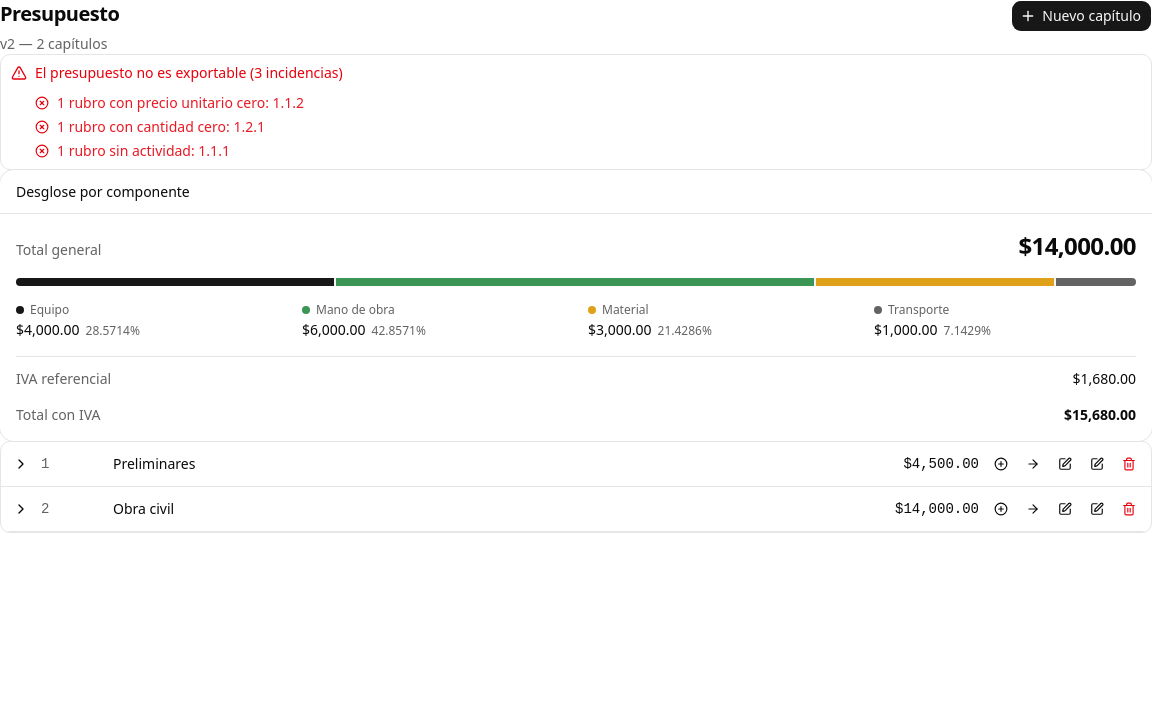
PresupuestoPage › agrega un rubro desde el diálogo de búsqueda de APU
expect the text "v2 — 2 capítulos" is shown: met, box 0,34 -> 119,54
Click the button titled "Agregar rubro" next to "$4,500.00" at (1033, 464), box 1019,450 -> 1047,478
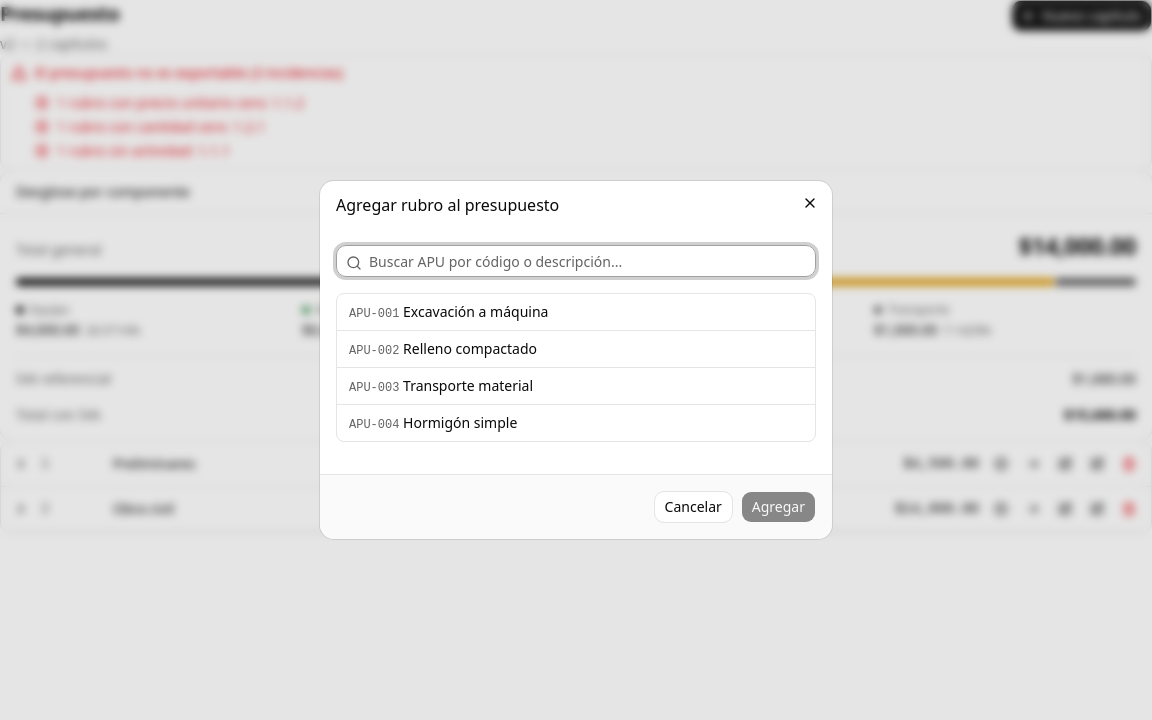
expect the field with placeholder "Buscar APU por código o descripción..." is shown: met, box 336,245 -> 816,277
expect the text "APU-001" is shown: met
Click the text "APU-001" at (374, 314), box 349,307 -> 399,321
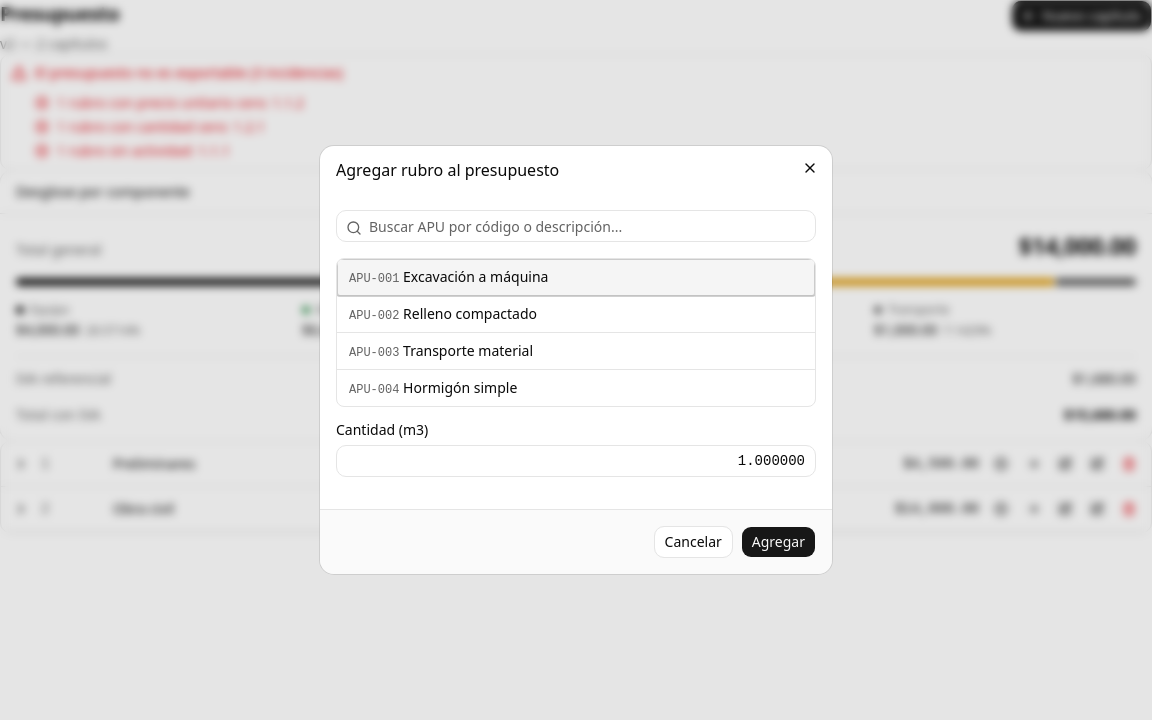
expect the field labelled "Cantidad (m3)" is shown: met, box 336,445 -> 816,477
Click the button "Agregar" at (778, 542), box 741,526 -> 816,558
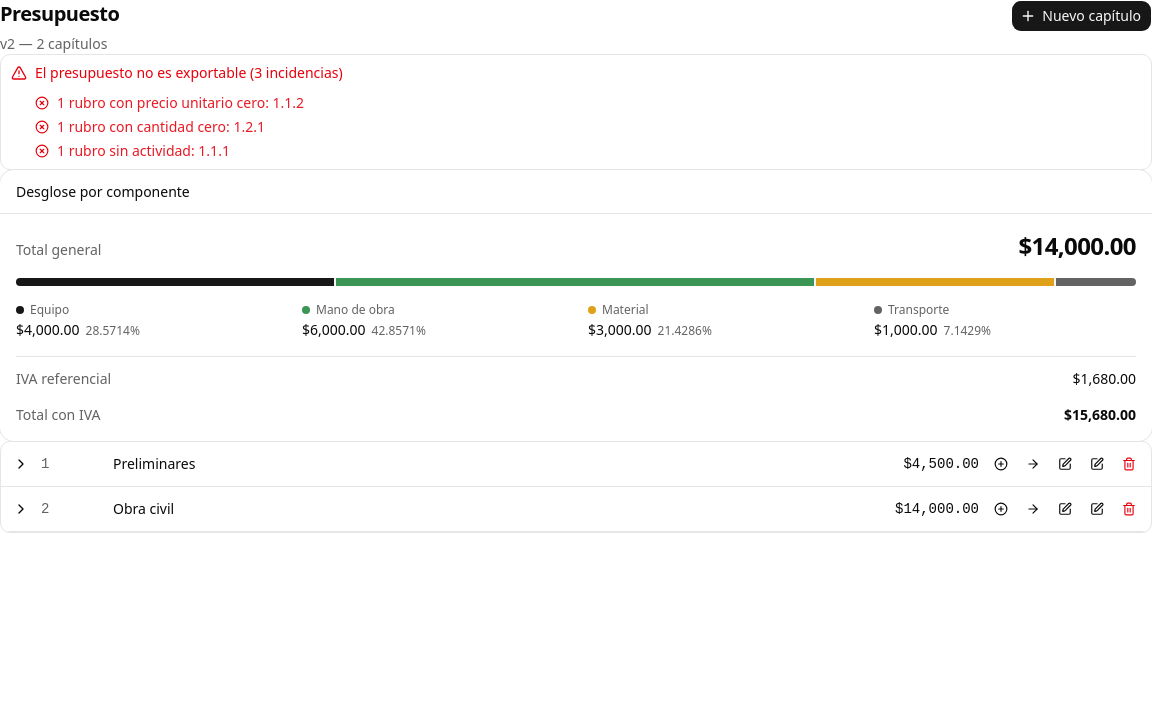
expect the dialog is gone: met
